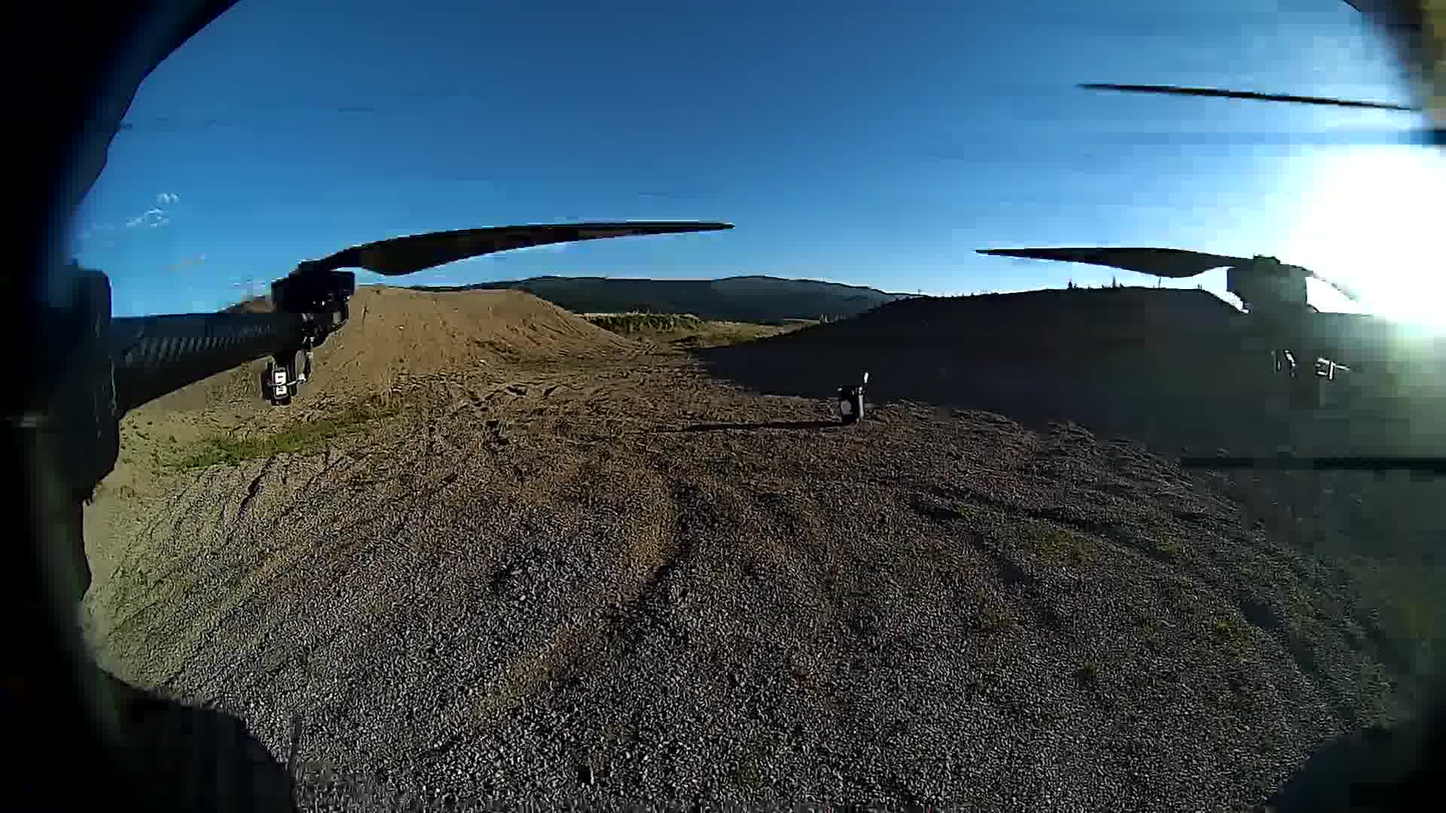Target: (839, 401, 853, 415)
